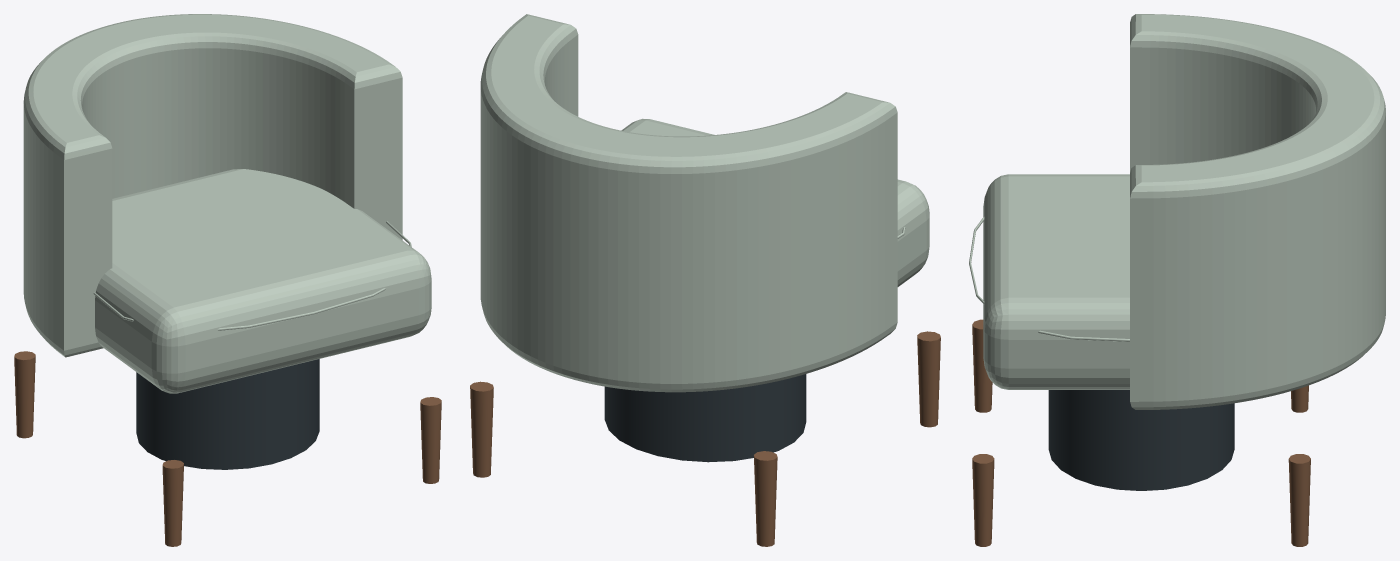
Rendered from chair-1-4.glb.
The picture shows the model from 3 angles, left to right: view 1: azimuth 30°, elevation 25°; view 2: azimuth 150°, elevation 25°; view 3: azimuth 270°, elevation 25°; orthographic projection. The views are drawn at different scales.
Visible parts, largest first — view 1: tailored-cushion, part (×2); view 2: tailored-cushion, part (×2); view 3: tailored-cushion, part (×2).
Boxes of the visible parts, x1,y1,x2,y2 form: tailored-cushion: (23,14,431,393); part (×2): (14,351,441,546); tailored-cushion: (480,14,929,392); part (×2): (470,331,940,546); tailored-cushion: (969,14,1385,409); part (×2): (972,319,1310,546).
Size of the model in its own units: 1 by 1 by 1.
